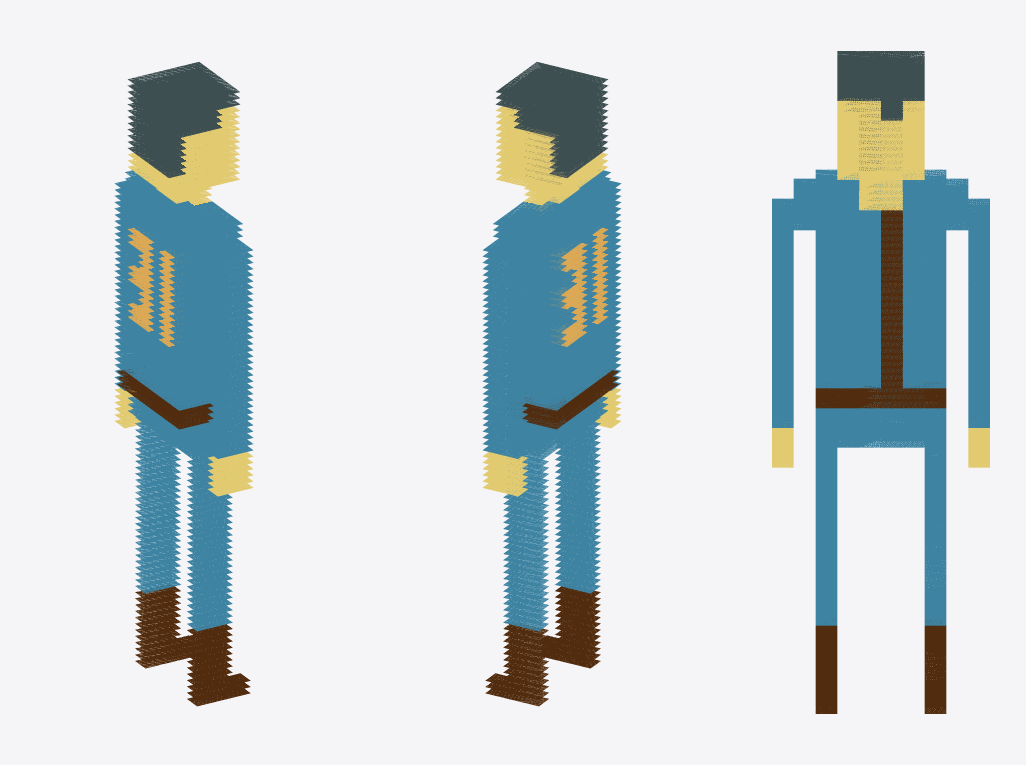
The model's file is swamp-31.gltf.
The picture shows the model from 3 angles, left to right: view 1: azimuth 30°, elevation 25°; view 2: azimuth 150°, elevation 25°; view 3: azimuth 270°, elevation 25°; orthographic projection. The views are drawn at different scales.
Parts seen in each view (by area): view 1: 31; view 2: 31; view 3: 31.
Part boxes in pixels (x1,y1,x2,y2): 31: (114, 62, 253, 706); 31: (482, 62, 621, 706); 31: (772, 51, 989, 713).
Size of the model in its own units: 1.2 by 3.17 by 1.2.
Materials: 1 (1 with a texture image).
